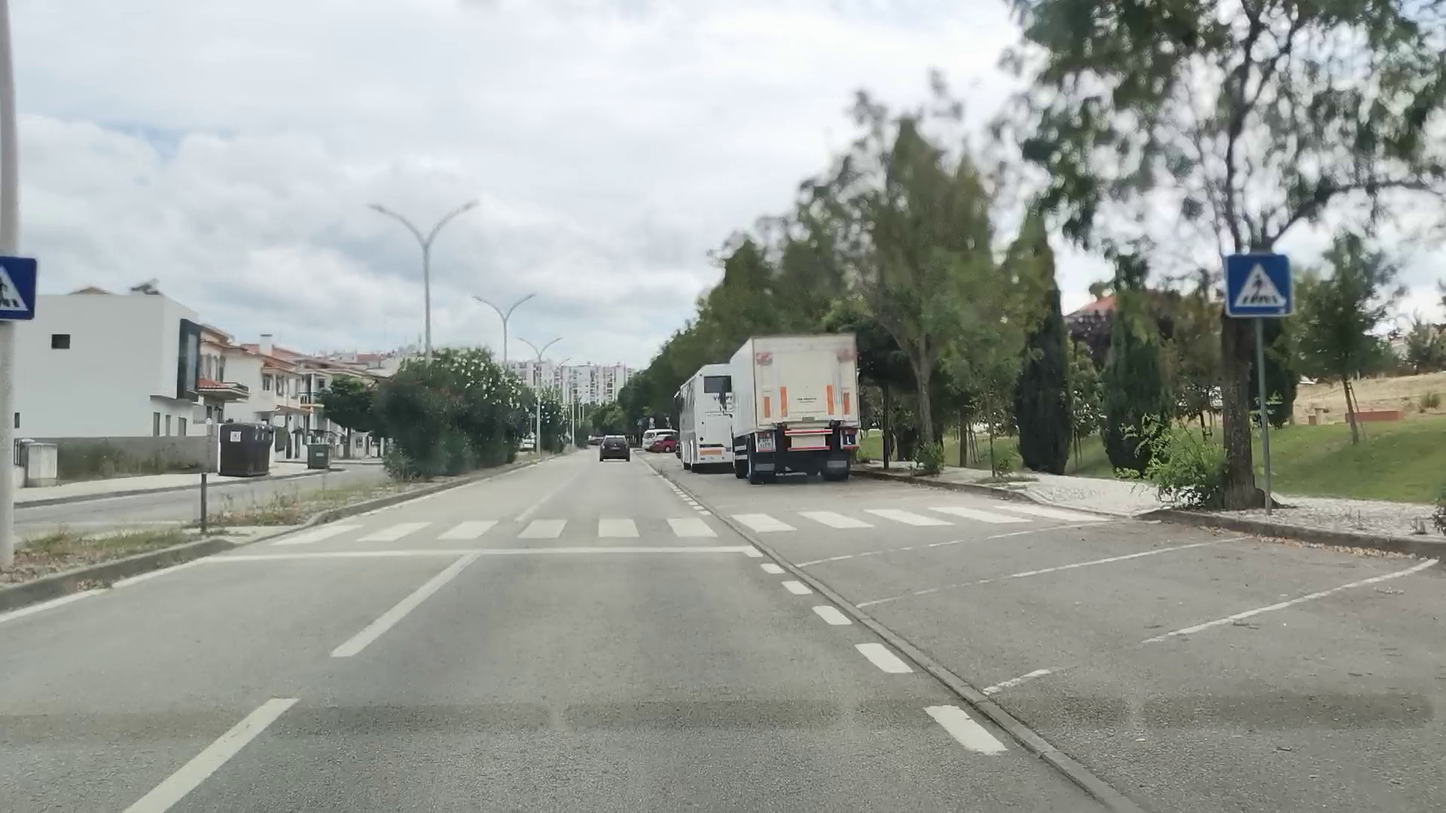Stairs: (267, 499, 1111, 542)
